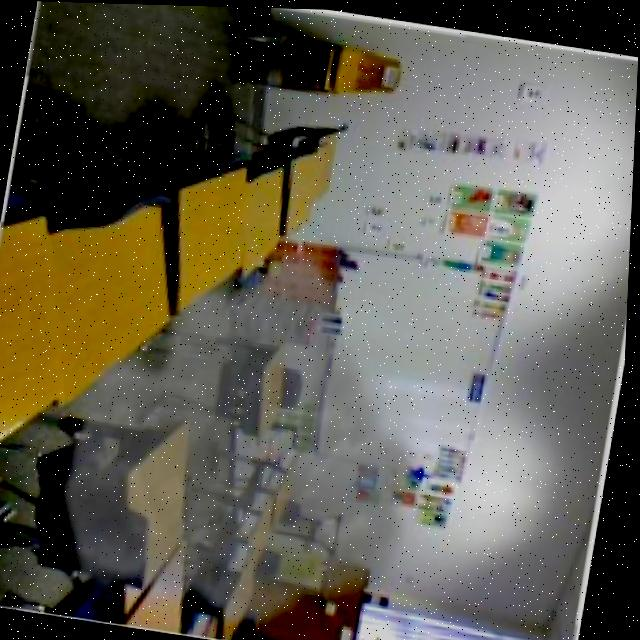Smoke: (37, 207, 465, 640)
